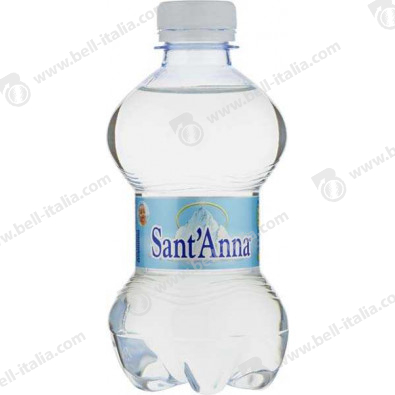PlasticBottle: (107, 4, 292, 392)
